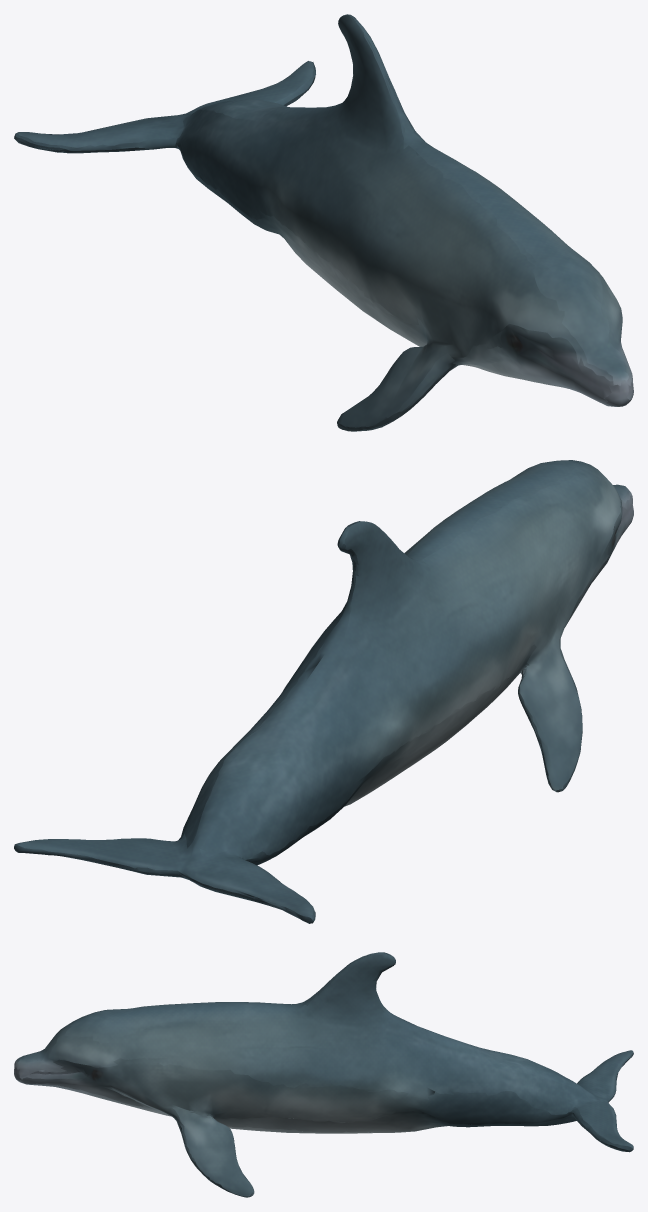
File: dolphin.glb
3 views of the same model, one above another, from view 1: azimuth 30°, elevation 25°; view 2: azimuth 150°, elevation 25°; view 3: azimuth 270°, elevation 25° (orthographic). The views are drawn at different scales.
Parts seen in each view (by area): view 1: dolphin | Lux3D; view 2: dolphin | Lux3D; view 3: dolphin | Lux3D.
Part boxes in pixels (x1=…): dolphin | Lux3D: x1=14, y1=14, x2=633, y2=431; dolphin | Lux3D: x1=14, y1=460, x2=633, y2=923; dolphin | Lux3D: x1=14, y1=952, x2=633, y2=1197.
Size of the model in its own units: 1 by 1 by 2.69.
1 material, 1 textured.
